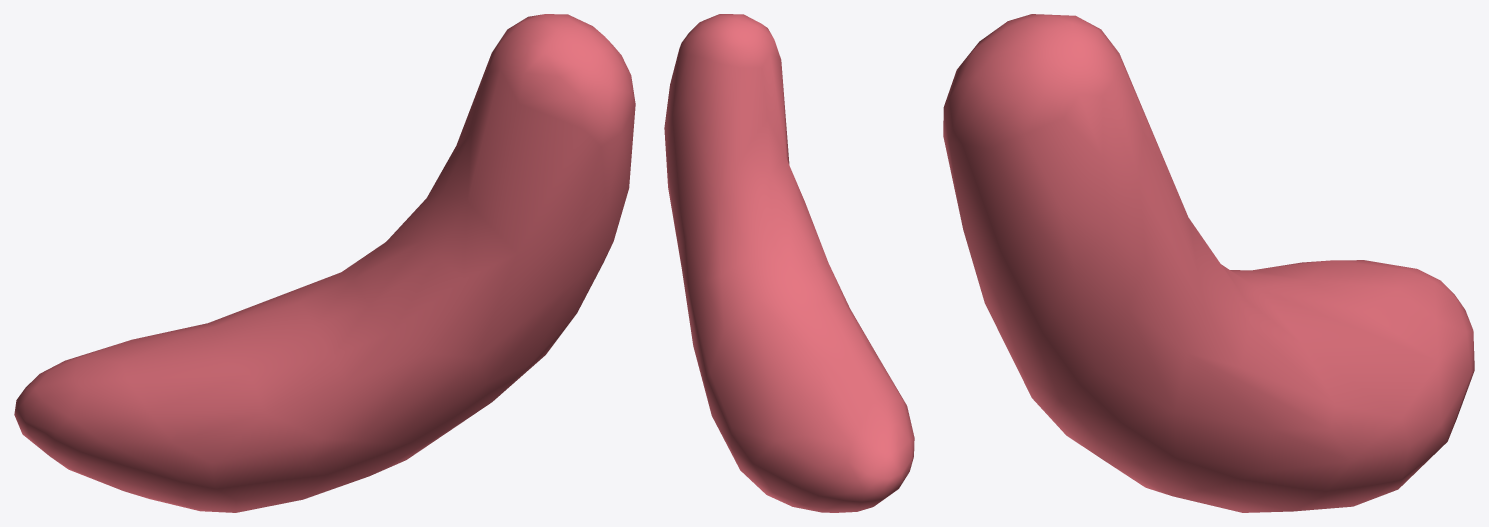
File: fma50305_fj5994.glb
3 views of the same model, side by side, from view 1: azimuth 30°, elevation 25°; view 2: azimuth 150°, elevation 25°; view 3: azimuth 270°, elevation 25° (orthographic). The views are drawn at different scales.
Visible parts, largest first — view 1: FMA50305_FJ5994; view 2: FMA50305_FJ5994; view 3: FMA50305_FJ5994.
Part boxes in pixels (<box>): FMA50305_FJ5994: <box>14,14,635,512</box>; FMA50305_FJ5994: <box>664,14,914,512</box>; FMA50305_FJ5994: <box>943,14,1474,512</box>.
Size of the model in its own units: 0.0204 by 0.0218 by 0.0174.
